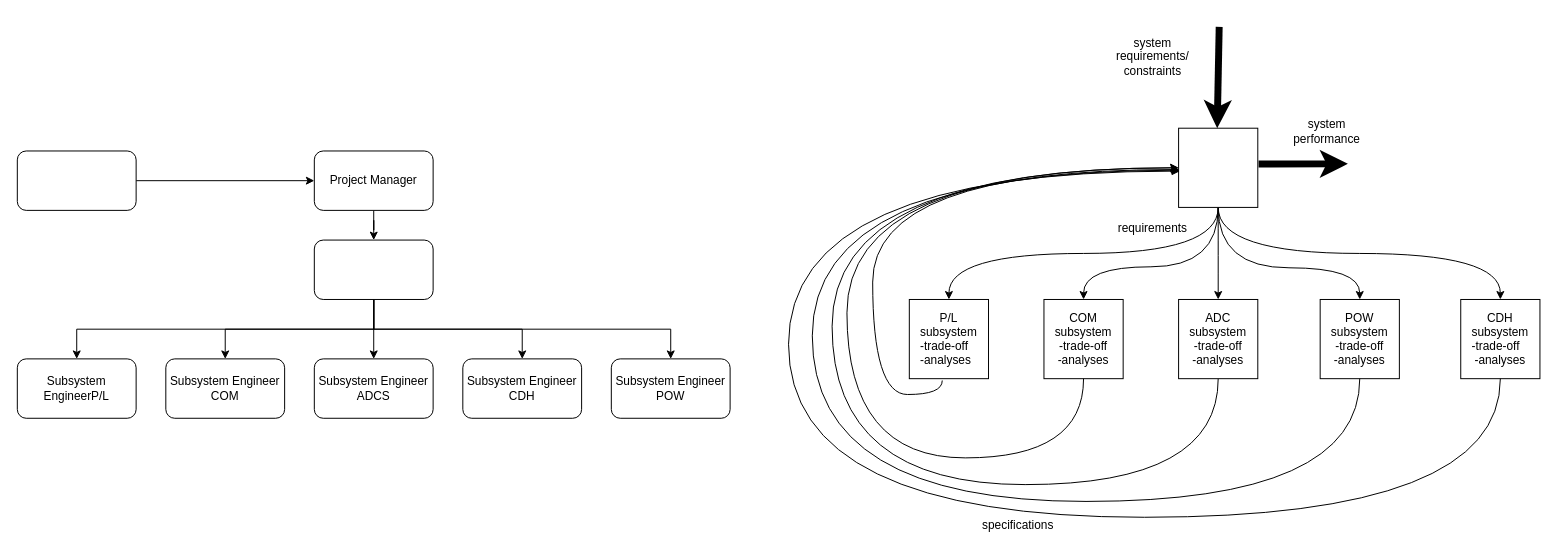
Some shapes in this 1557 by 557 pixel diagram are drawn without their labels. The box of each missing label's shape, as (x1, y1, x2, y2) in pixels:
Principle Investigator: (16, 150, 136, 210)
Satellite System: (1178, 127, 1258, 207)
System Engineer: (313, 239, 433, 299)
